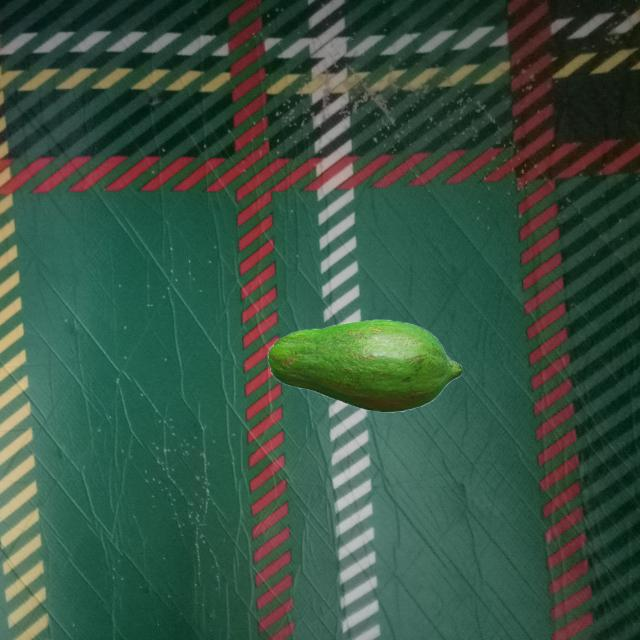Pepaya unrippen: (259, 317, 473, 416)
